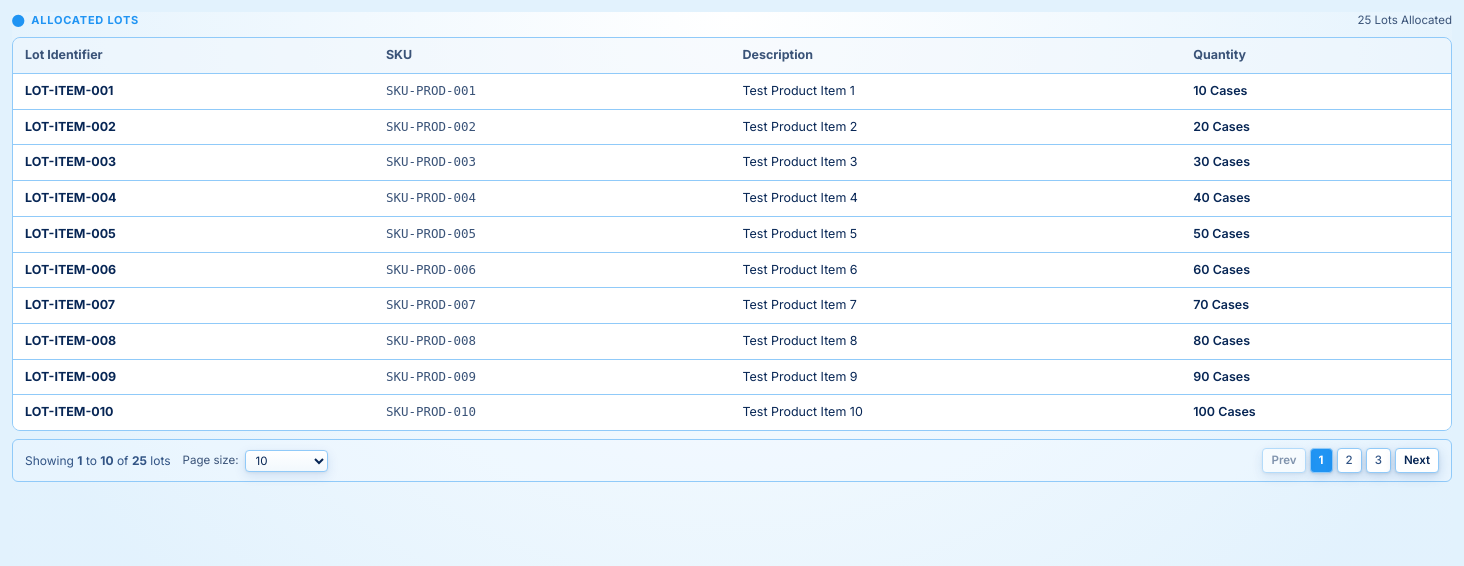
Test: Stage Audit -> ALLOCATED LOTS Pagination and Page Size (Max 30) › StageAllocatedLotsSection Isolated Component Tests › navigates directly using page number buttons
The image size is (1464, 566).
Click the button with test id "stage-allocated-lots-page-btn-3" at (1378, 461), box [1366, 448, 1391, 474]
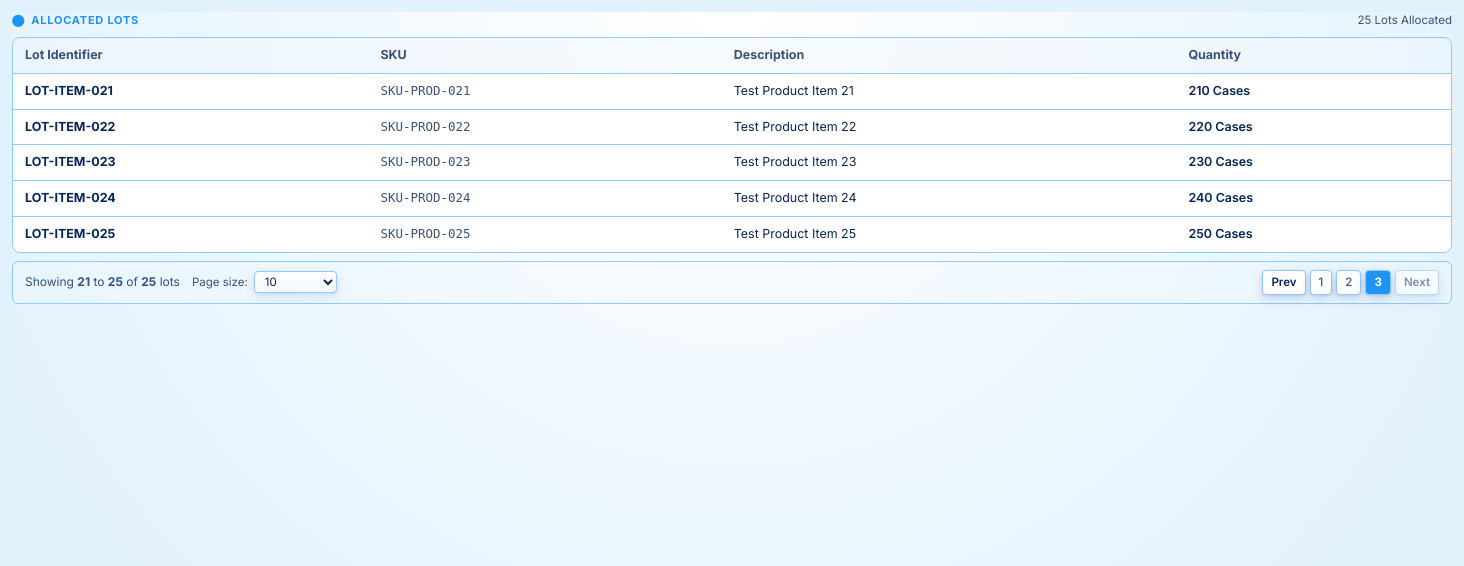
Expected: the element with test id "stage-allocated-lots-page-info" reads "Showing 21 to 25 of 25 lots", [25, 273, 180, 291]
Expected: the number of rows with test id "stage-allocated-lot-row" is 5, [13, 74, 1451, 109]; [13, 109, 1451, 145]; [13, 145, 1451, 181]; [13, 181, 1451, 216]; [13, 216, 1451, 252]
Expected: the row with test id "stage-allocated-lot-row" shows "LOT-ITEM-021", [25, 83, 113, 98]
